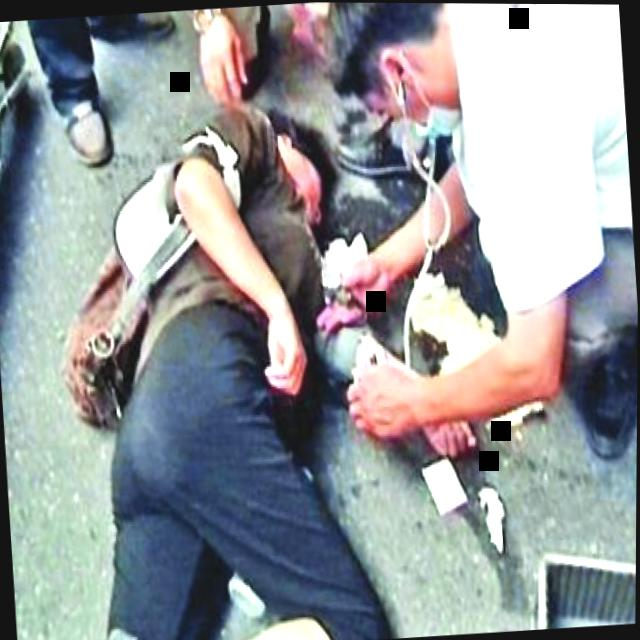Fall-Detected: (50, 43, 411, 640)
